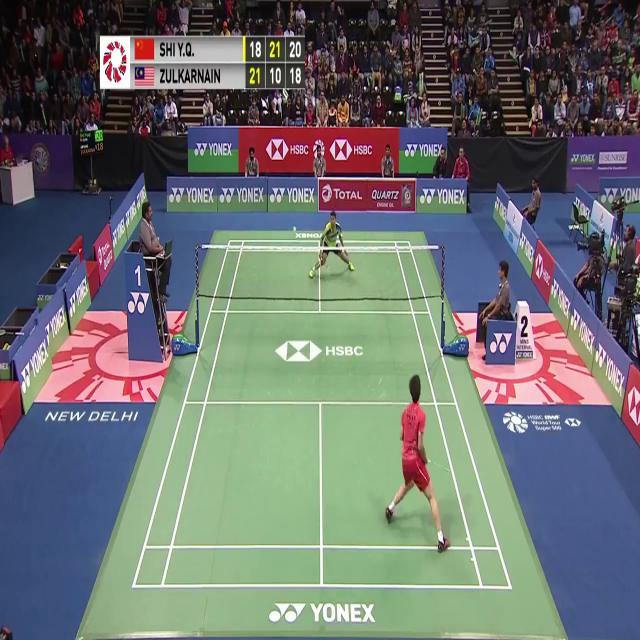Shuttlecock: (292, 223, 298, 234)
